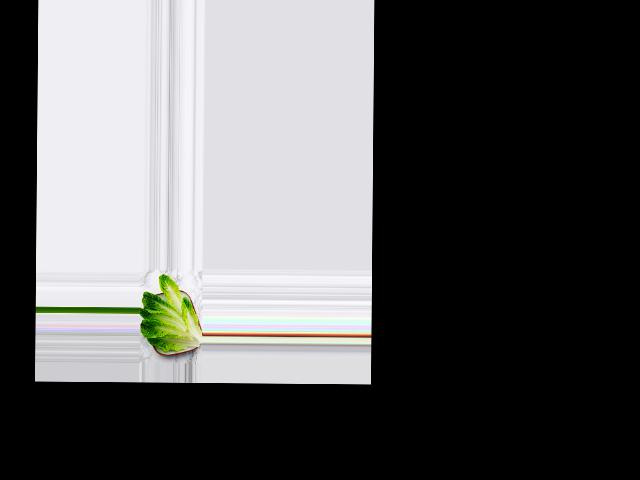lettuce: (138, 272, 200, 356)
